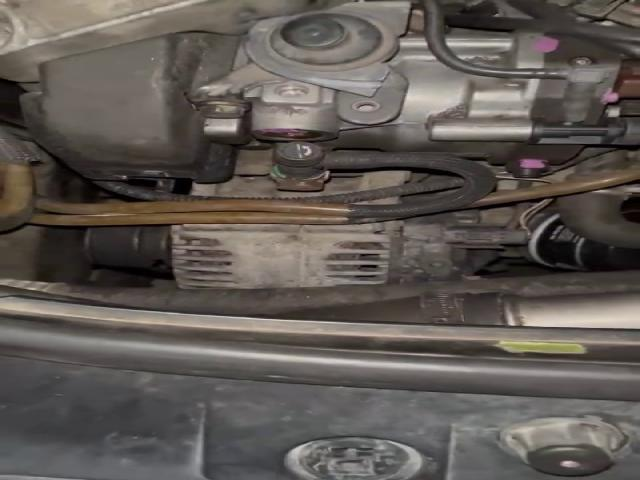alternator: (170, 208, 540, 288)
high_pressure_pump: (246, 27, 640, 177)
